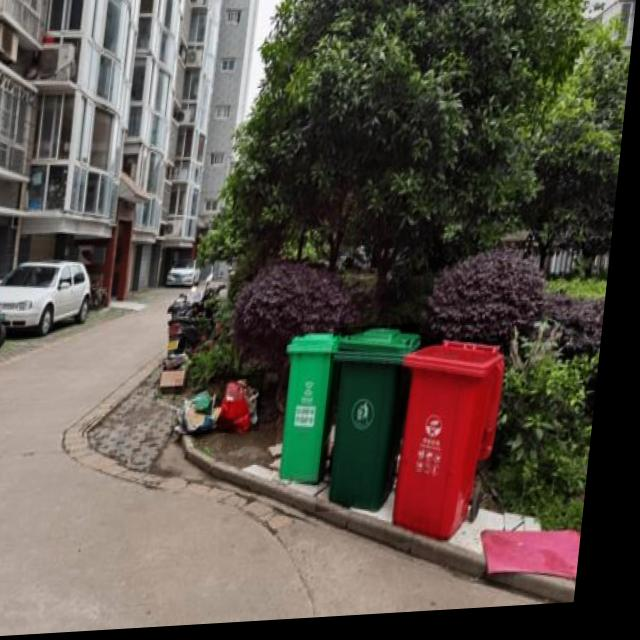garbage: (179, 378, 273, 439)
garbage_bin: (395, 342, 515, 549), (326, 329, 428, 517), (283, 334, 347, 488)
